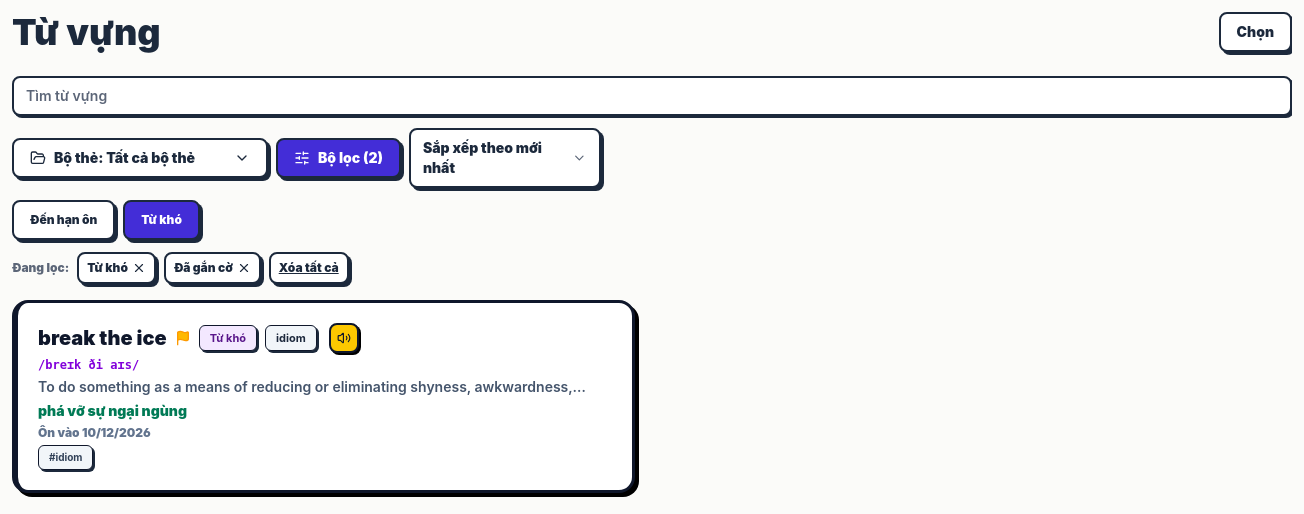
VocabularyListPage learner flows › hiển thị từng điều kiện và gỡ một điều kiện mà vẫn giữ các điều kiện khác
The width and height of the screenshot is (1304, 514).
Check: the button "Bộ lọc (2)" is shown, box [276,138,401,178]
Click the button with aria-label "Bỏ điều kiện Từ khó": (117, 268) [77,252,156,284]
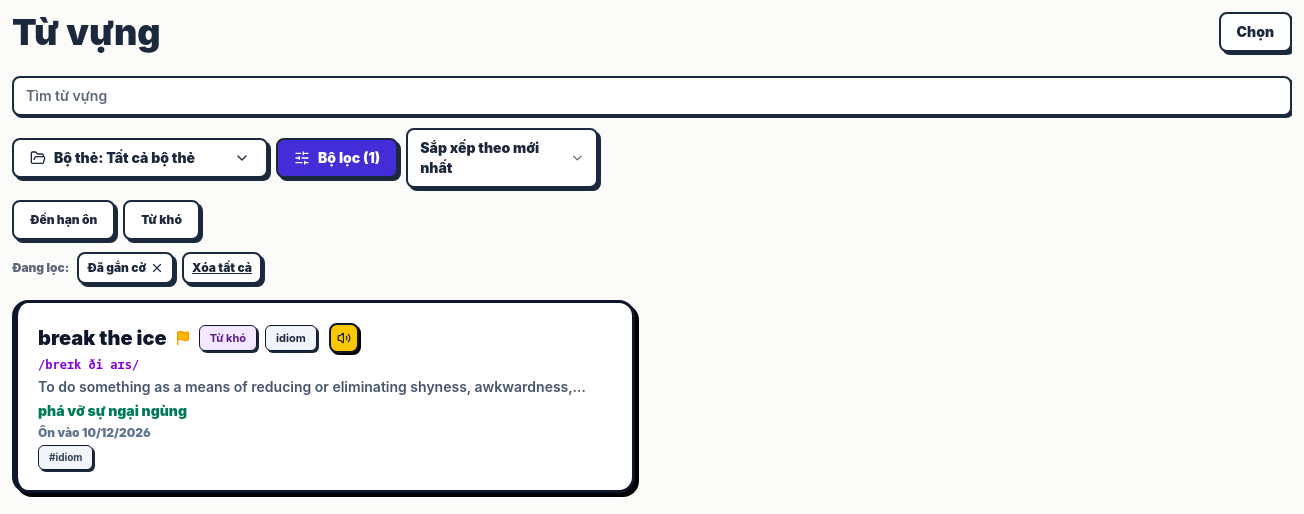
Check: the button with aria-label "Bỏ điều kiện Đã gắn cờ" is shown, box [77,252,174,284]
Check: the button "Bộ lọc (1)" is shown, box [276,138,398,178]
